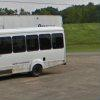Bus: (1, 9, 70, 76)
